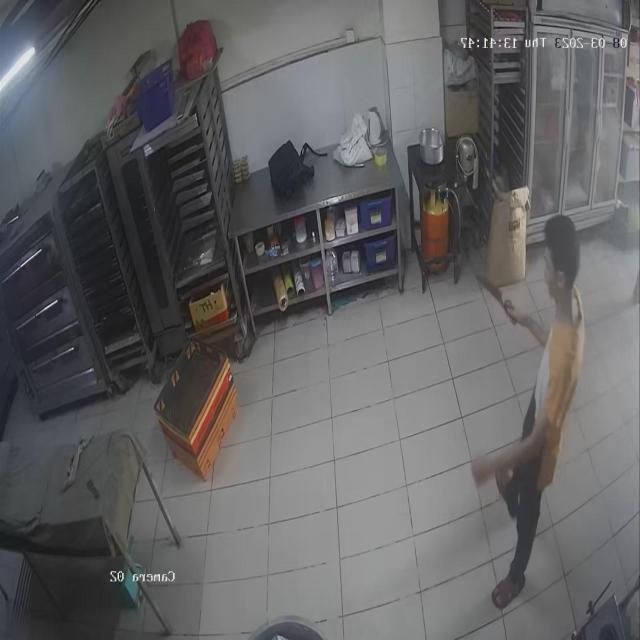Knife: (466, 261, 516, 317)
